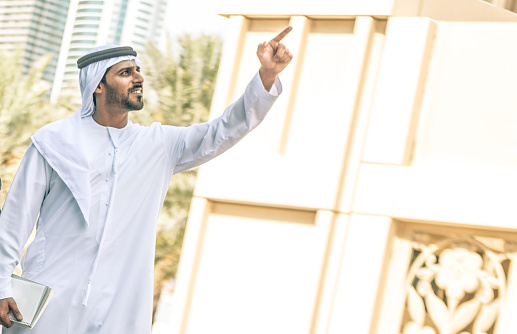em pe: (0, 29, 268, 334)
